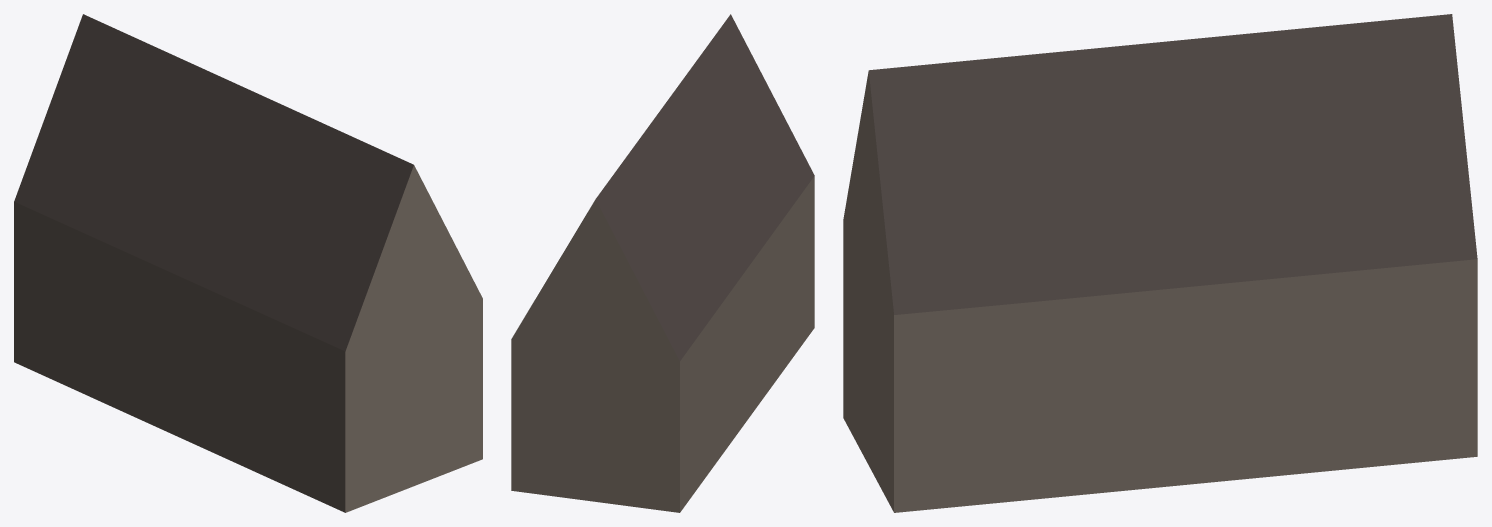
3 views of the same model, side by side, from view 1: azimuth 30°, elevation 25°; view 2: azimuth 150°, elevation 25°; view 3: azimuth 270°, elevation 25° (orthographic). The views are drawn at different scales.
Parts seen in each view (by area): view 1: HP-w428196092; view 2: HP-w428196092; view 3: HP-w428196092.
Part boxes in pixels (<box>): HP-w428196092: <box>14,14,482,512</box>; HP-w428196092: <box>511,14,814,512</box>; HP-w428196092: <box>843,14,1477,512</box>.
Bounding box in the file's own units: 4.93 × 6 × 8.73.
